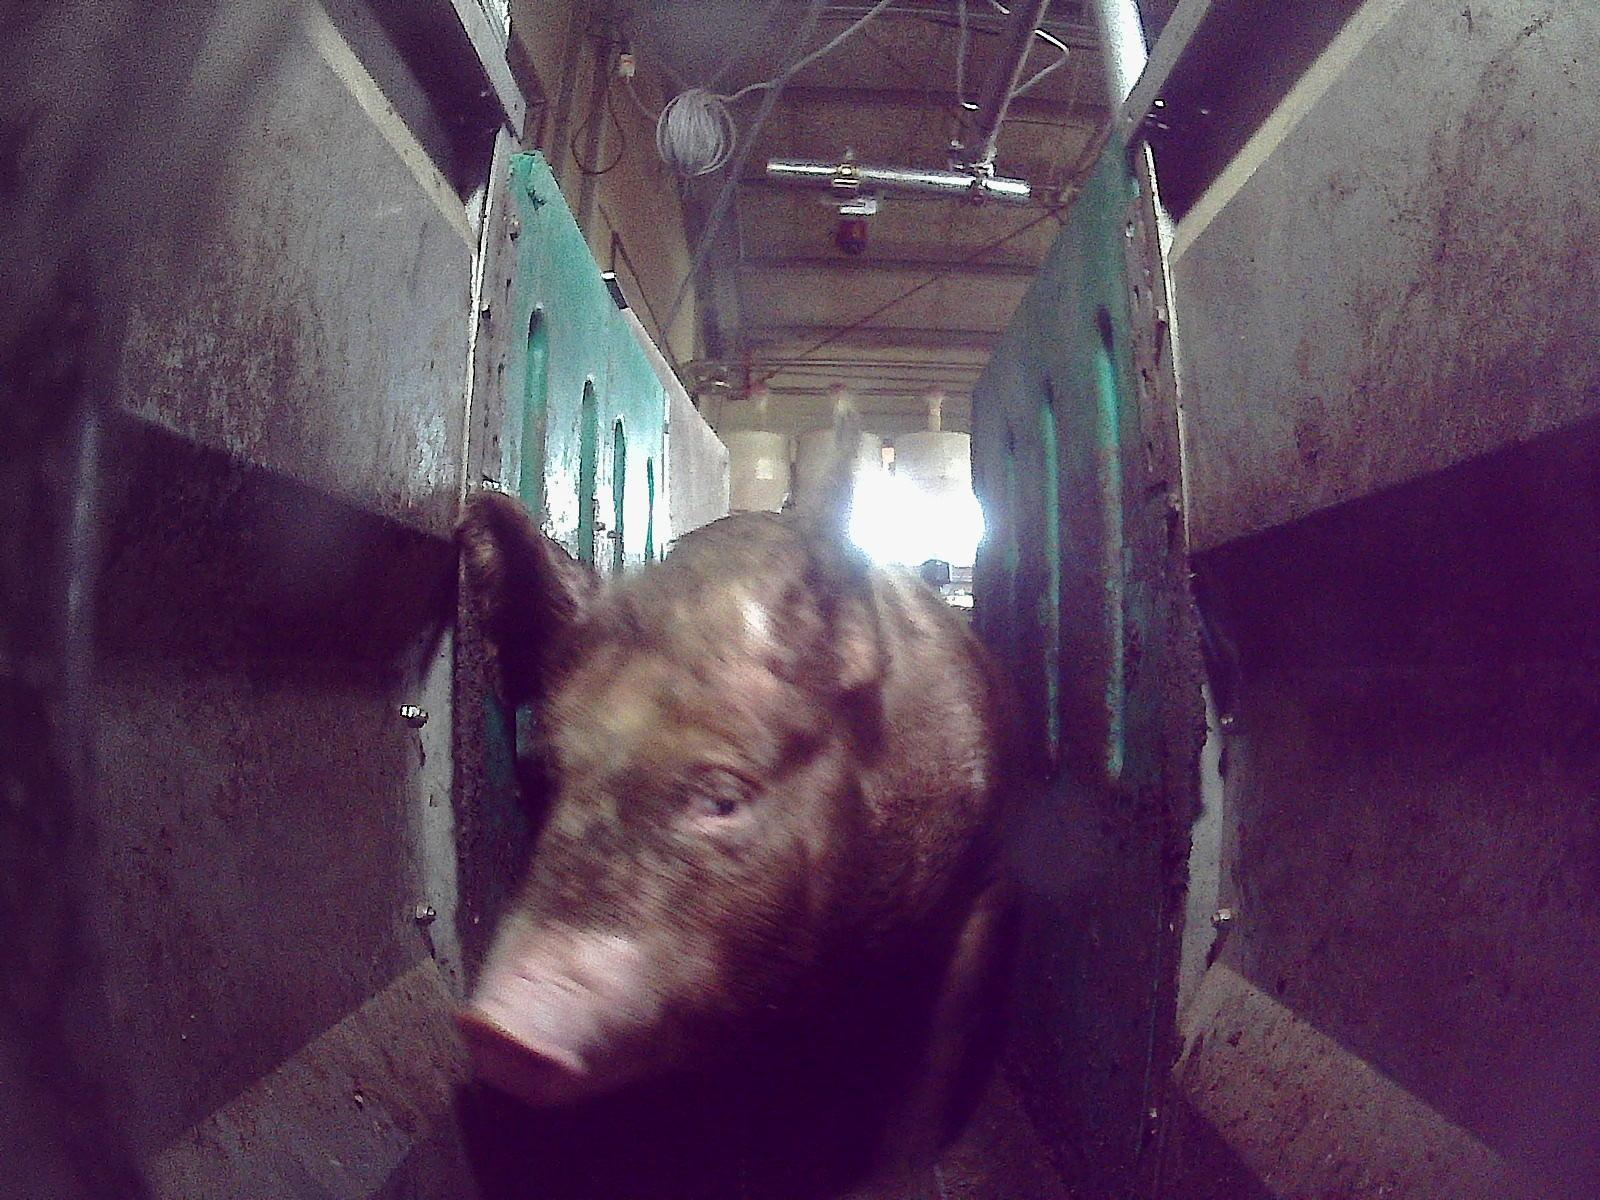Face: (446, 634, 843, 1097)
